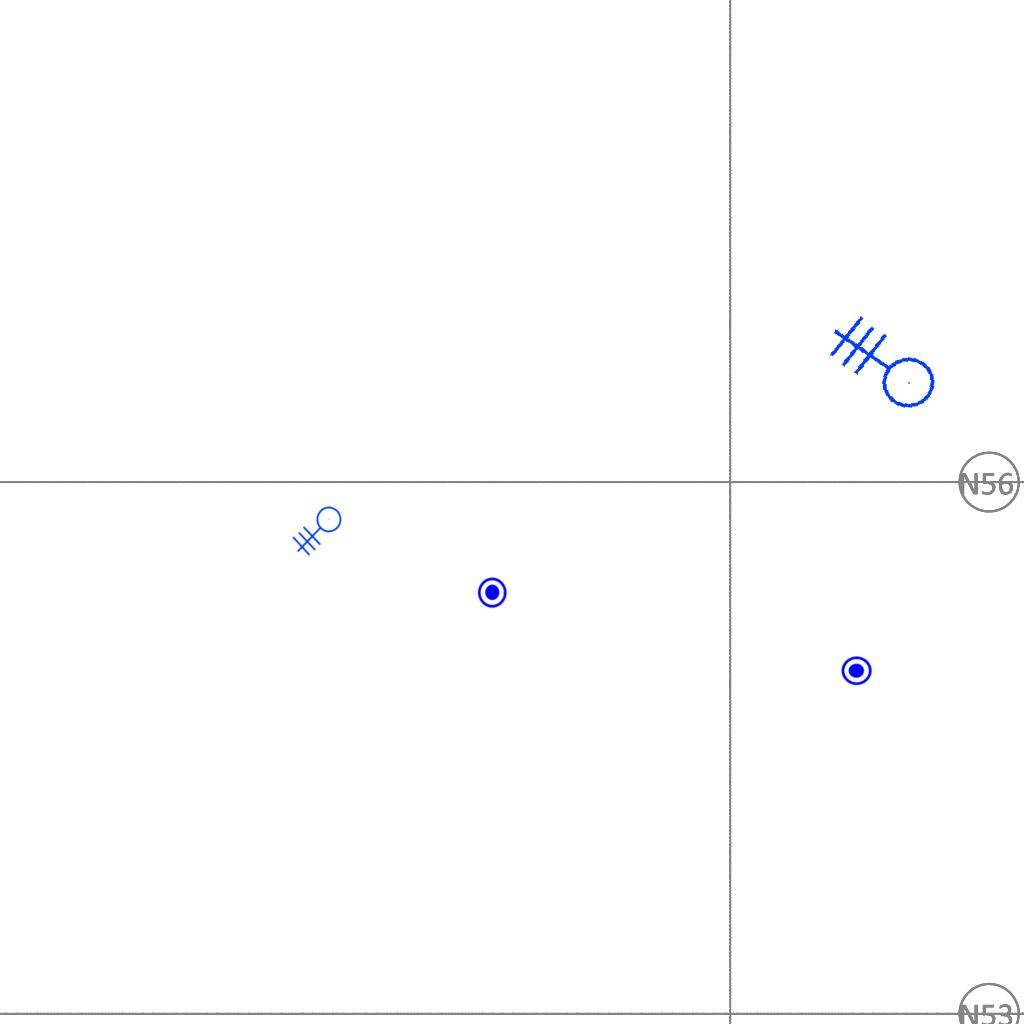Elektroanschluss_allgemein_400V_Geraeteanschlussdose_400V: (812, 305, 942, 438), (292, 506, 350, 562)
Taster: (477, 576, 510, 609), (840, 653, 873, 686)
